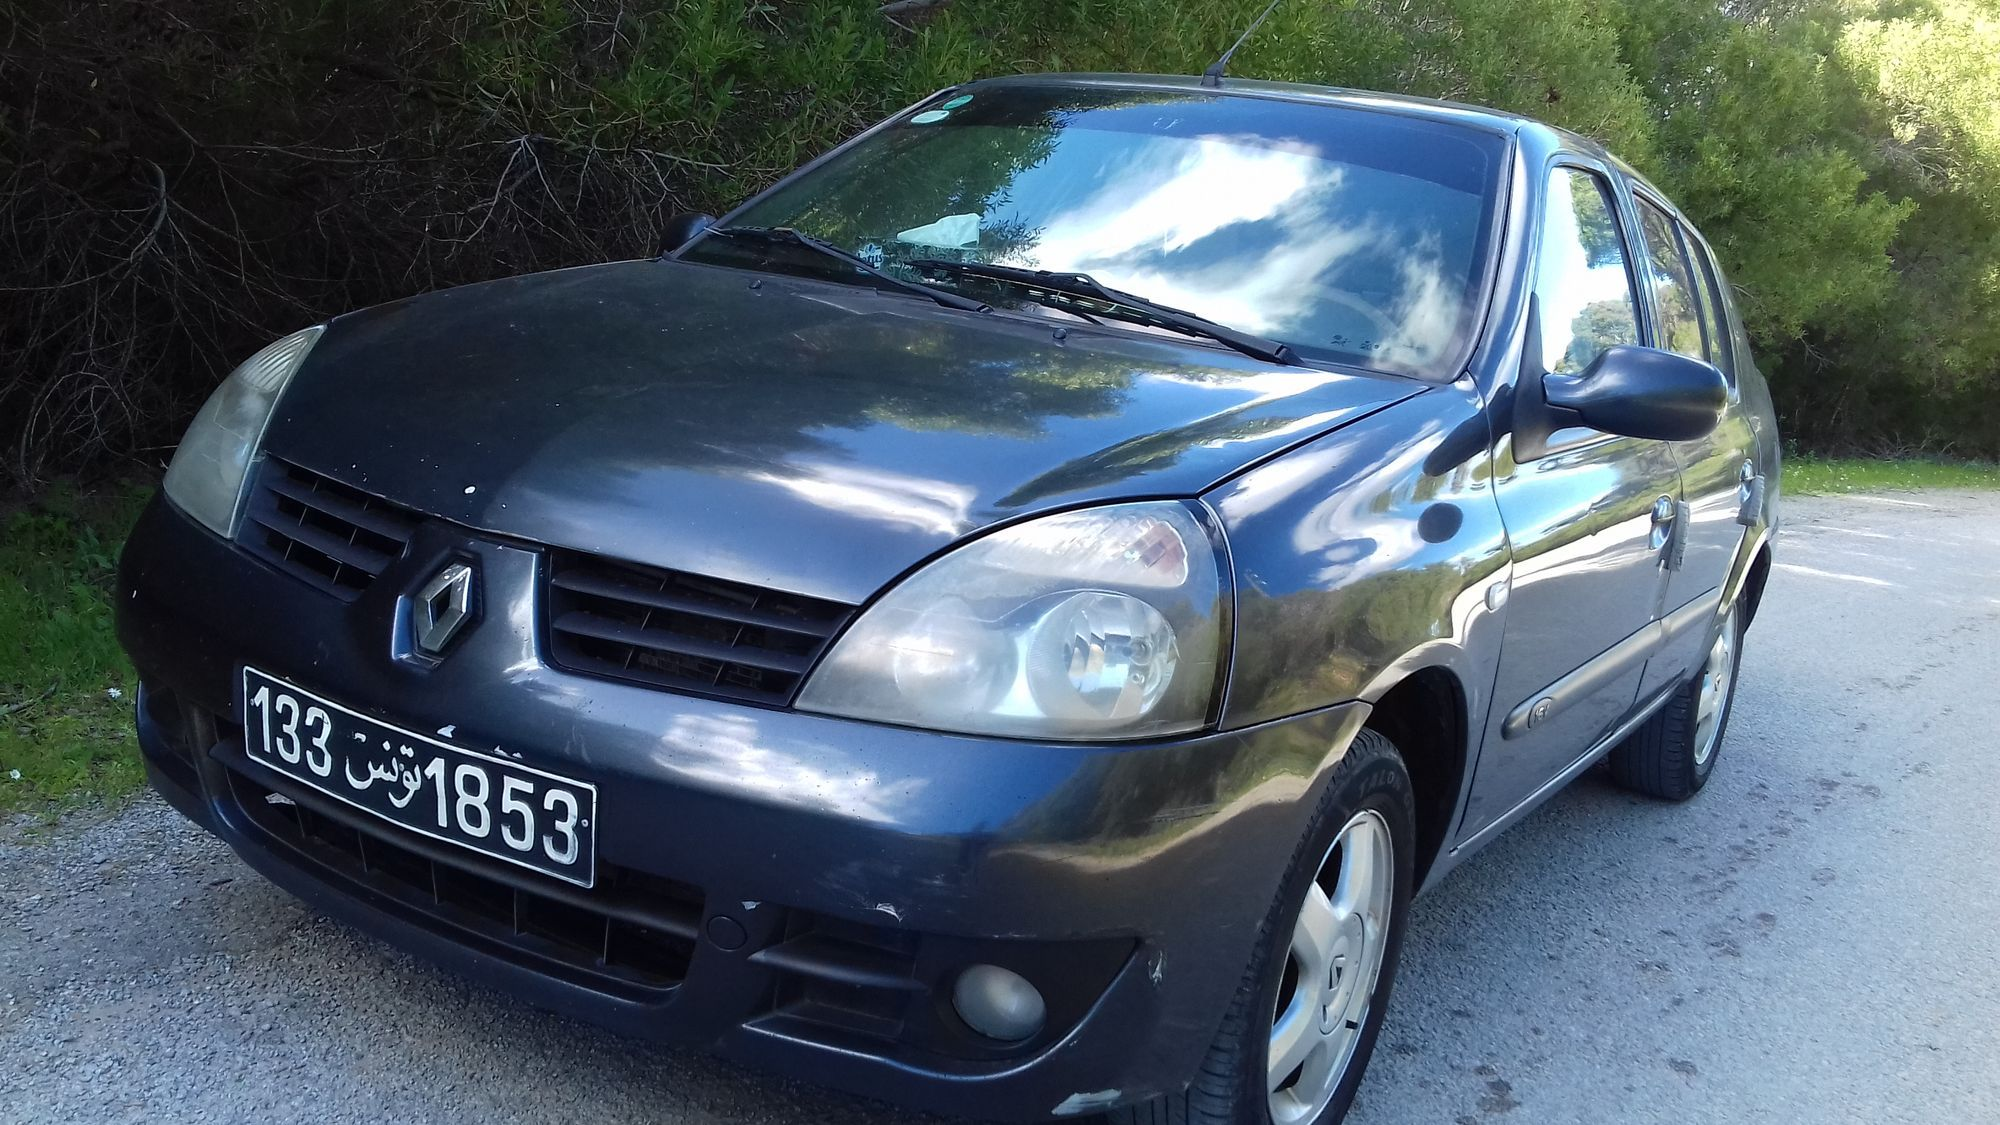LP: (239, 661, 598, 897)
